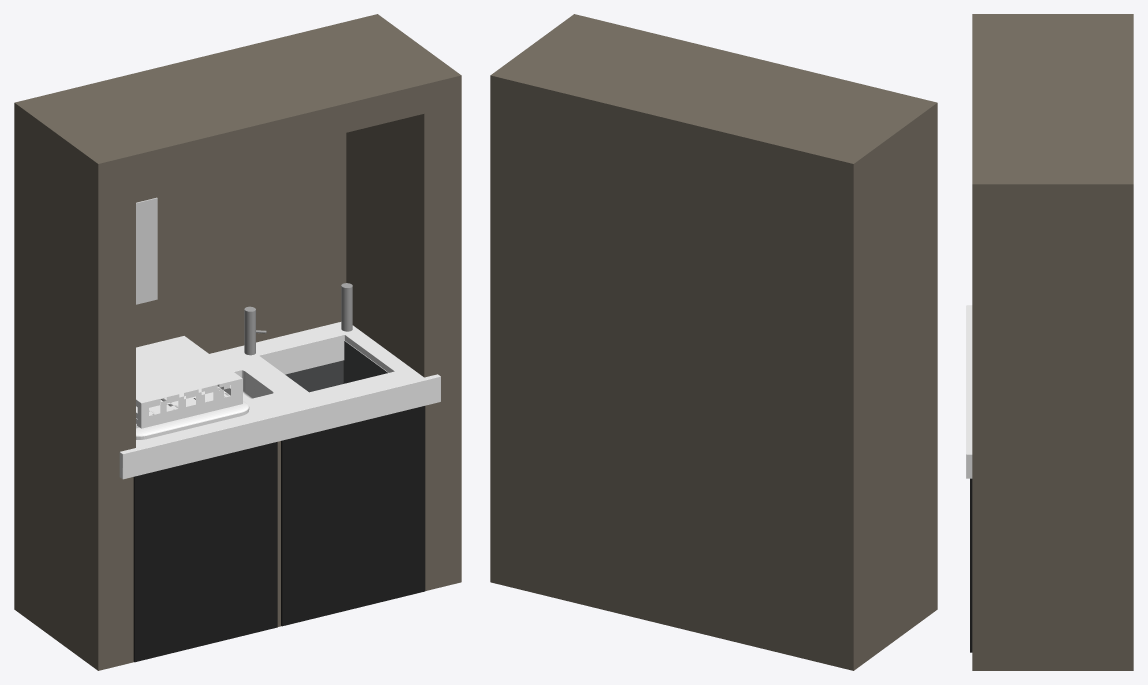
File: Kitchen.fbx
The picture shows the model from 3 angles, left to right: view 1: azimuth 30°, elevation 25°; view 2: azimuth 150°, elevation 25°; view 3: azimuth 270°, elevation 25°; orthographic projection. The views are drawn at different scales.
Visible parts, largest first — view 1: Cube.008, Cube.014, Cube.015, Cube.013, Cube.011, Cube.012, Cube.010; view 2: Cube.008; view 3: Cube.008, Cube.013, Cube.015.
Part boxes in pixels (box(x1,y1,x2,y2)): Cube.008: box(14, 14, 461, 670); Cube.014: box(133, 442, 277, 662); Cube.015: box(281, 406, 425, 626); Cube.013: box(119, 322, 440, 479); Cube.011: box(136, 336, 242, 428); Cube.012: box(136, 197, 157, 304); Cube.010: box(136, 390, 249, 439); Cube.008: box(490, 14, 937, 670); Cube.008: box(972, 14, 1133, 670); Cube.013: box(966, 305, 972, 478); Cube.015: box(970, 478, 972, 652).
Size of the model in its own units: 300 by 400 by 125.
